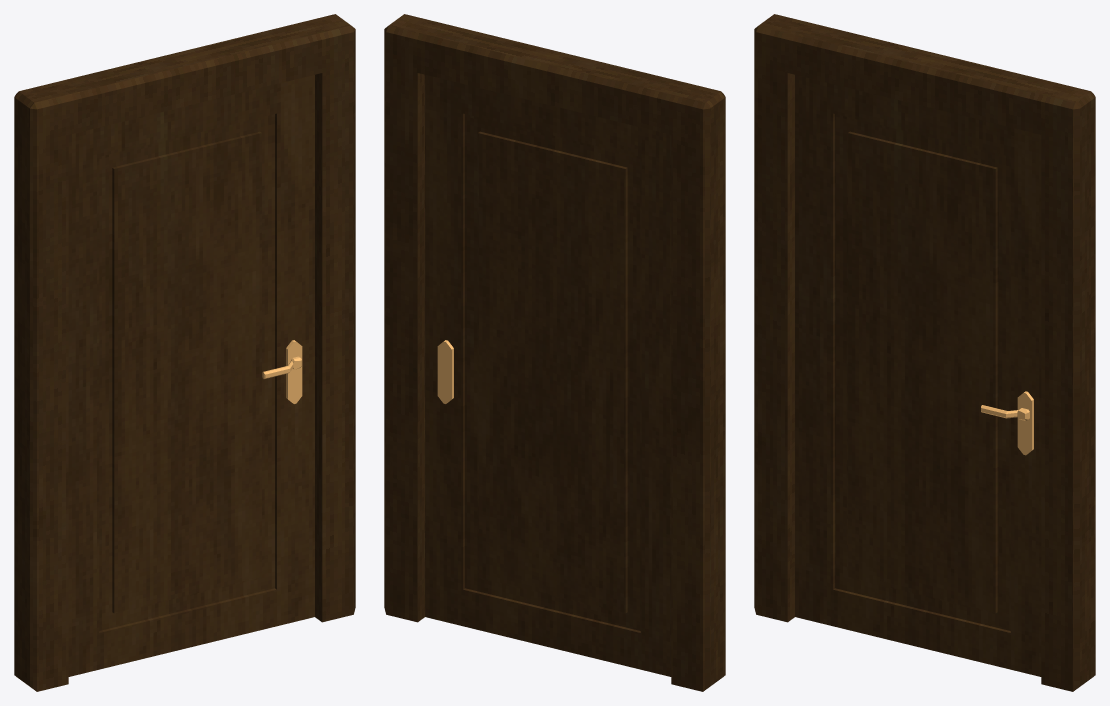
File: door.glb
The picture shows the model from 3 angles, left to right: view 1: azimuth 30°, elevation 25°; view 2: azimuth 150°, elevation 25°; view 3: azimuth 330°, elevation 25°; orthographic projection.
Parts seen in each view (by area): view 1: Cube.003, Cube.002, Cube.006; view 2: Cube.003, Cube.002, Cube.006; view 3: Cube.003, Cube.002, Cube.006.
Boxes of the visible parts, <box> form: Cube.003: <box>68,75,314,676</box>; Cube.002: <box>14,14,355,691</box>; Cube.006: <box>286,340,302,403</box>; Cube.003: <box>425,75,671,676</box>; Cube.002: <box>384,14,725,691</box>; Cube.006: <box>437,340,453,403</box>; Cube.003: <box>795,75,1041,676</box>; Cube.002: <box>754,14,1095,691</box>; Cube.006: <box>1017,391,1033,455</box>.
Size of the model in its own units: 1.91 by 3.29 by 0.2295.
3 materials, 2 textured.
